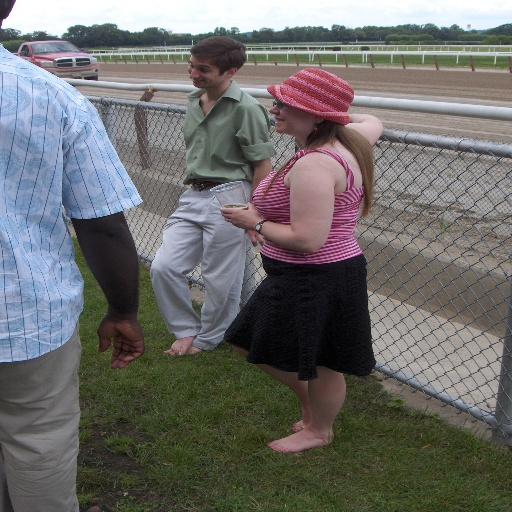hand: (88, 316, 139, 363), (219, 199, 263, 232), (246, 231, 265, 247)
